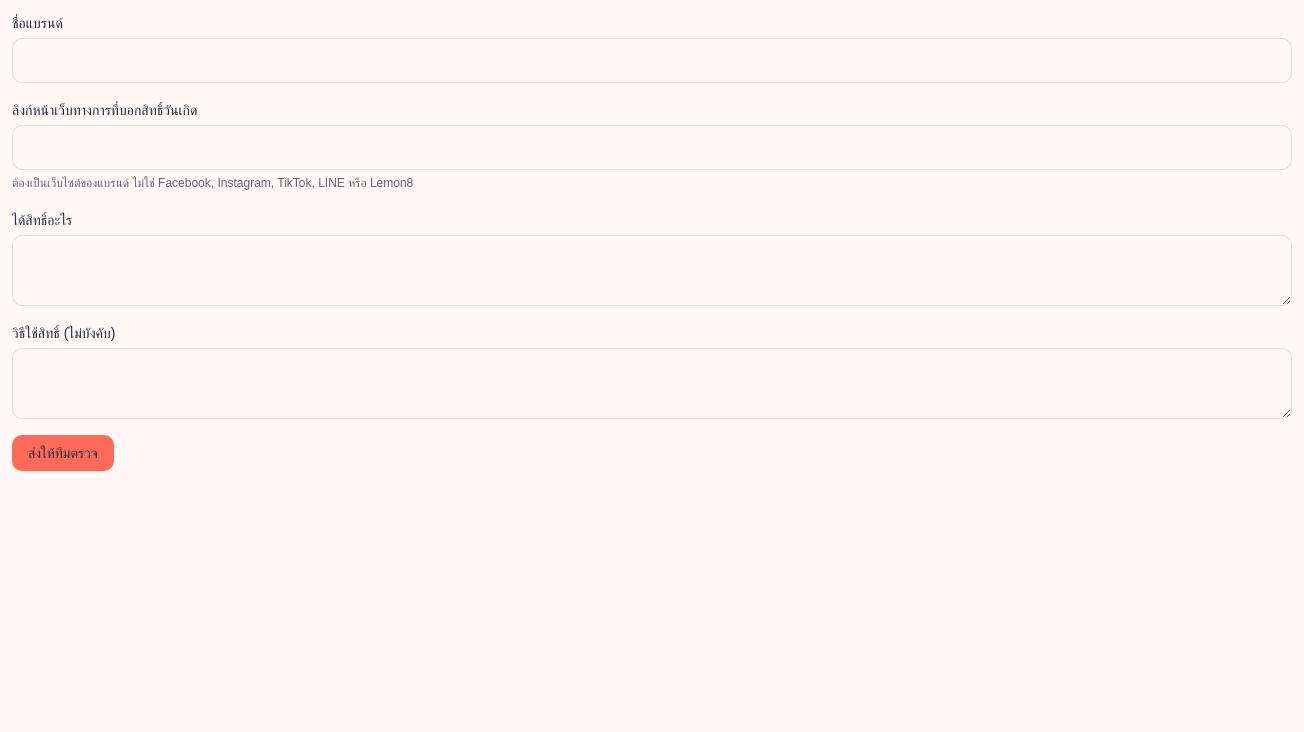
it: SubmissionForm › ผล rate_limited แจ้ง error
Type "MK" into the field labelled "ชื่อแบรนด์" at (652, 61), box [12,38,1292,83]
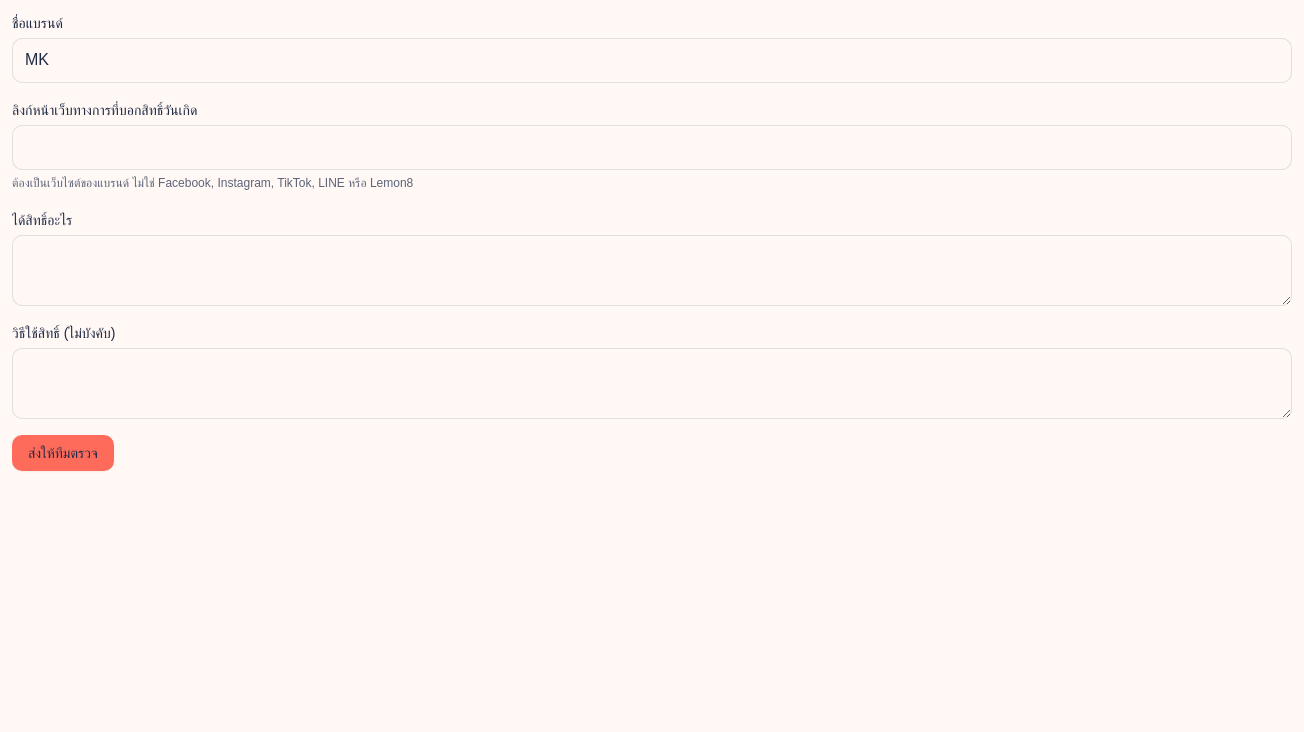
Type "https://www.mkrestaurant.com/member" into the field labelled "ลิงก์หน้าเว็บทางการที่บอกสิทธิ์วันเกิด" at (652, 147), box [12,125,1292,170]
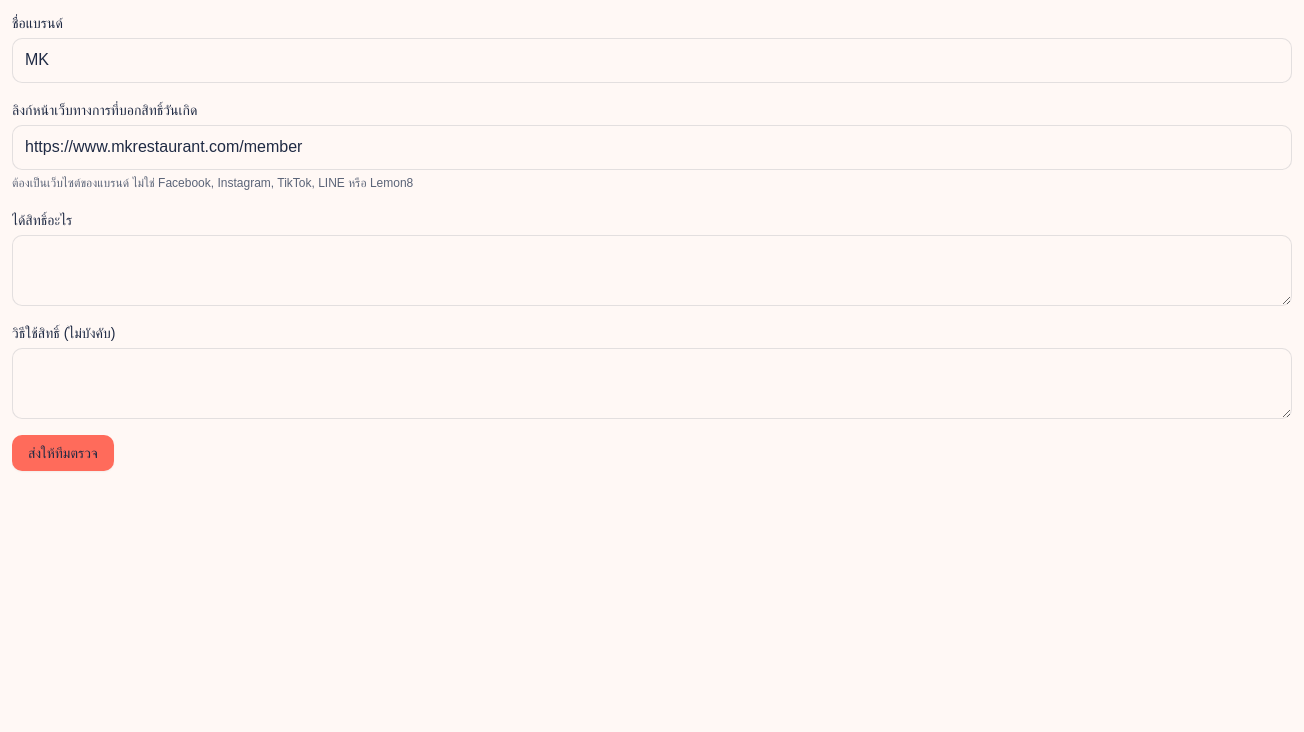
Type "เป็ดย่างฟรี" into the text box labelled "ได้สิทธิ์อะไร" at (652, 270), box [12,235,1292,306]
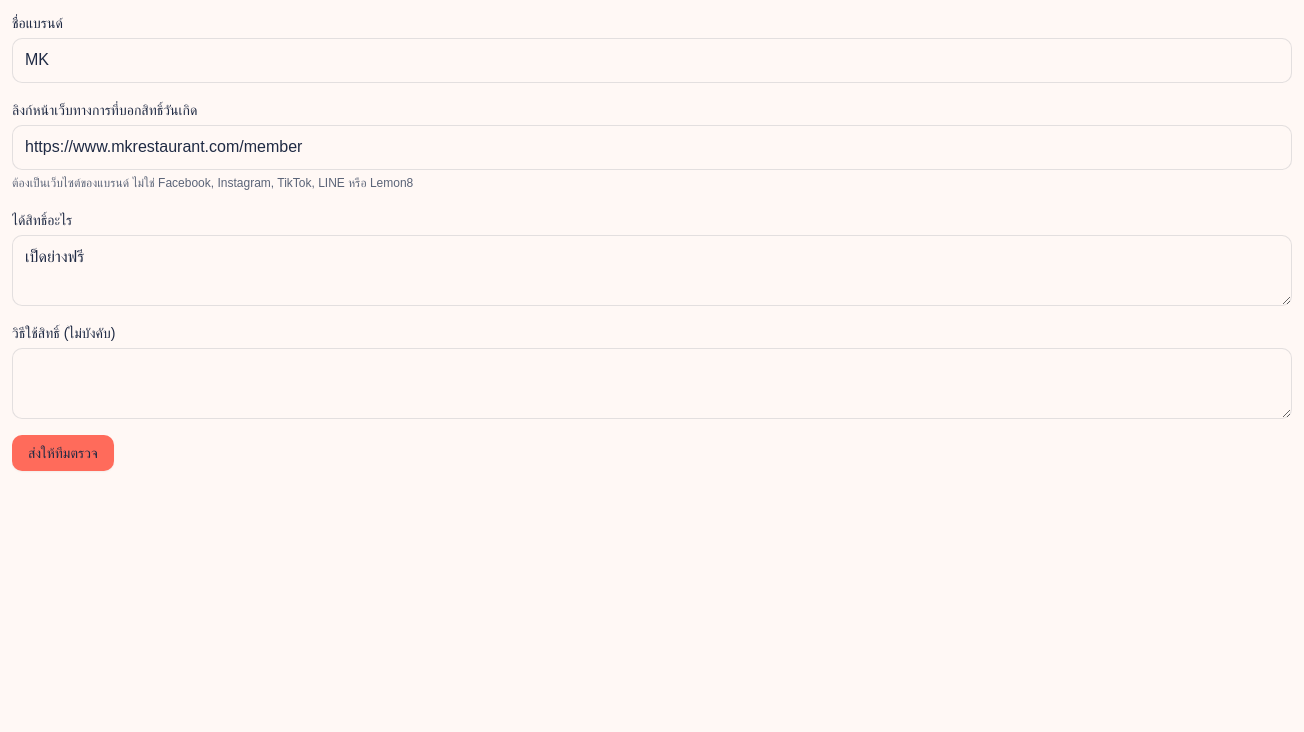
Click the button "ส่งให้ทีมตรวจ" at (63, 453), box [12,435,114,471]
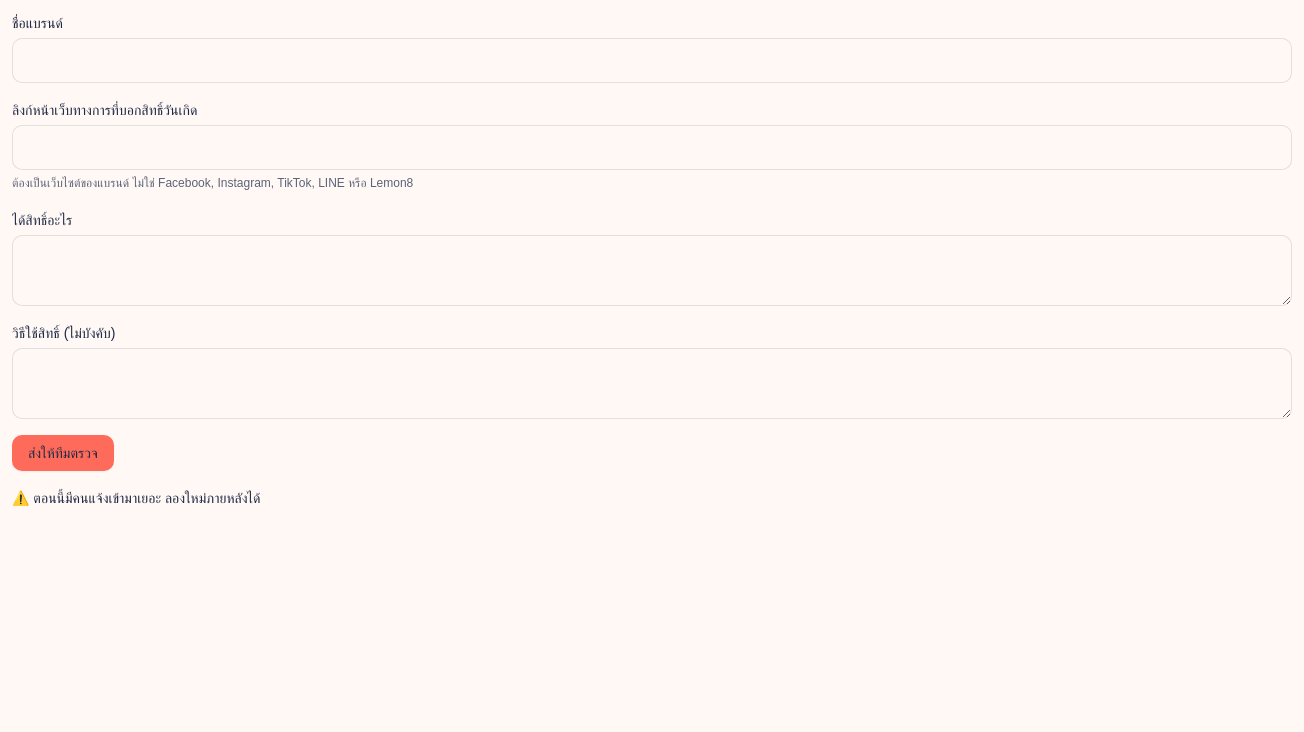
Expected: the message shows "ลองใหม่ภายหลัง", [33,490,260,506]
